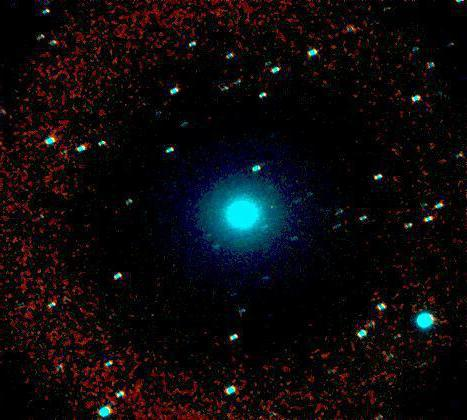star: (255, 191, 285, 221)
